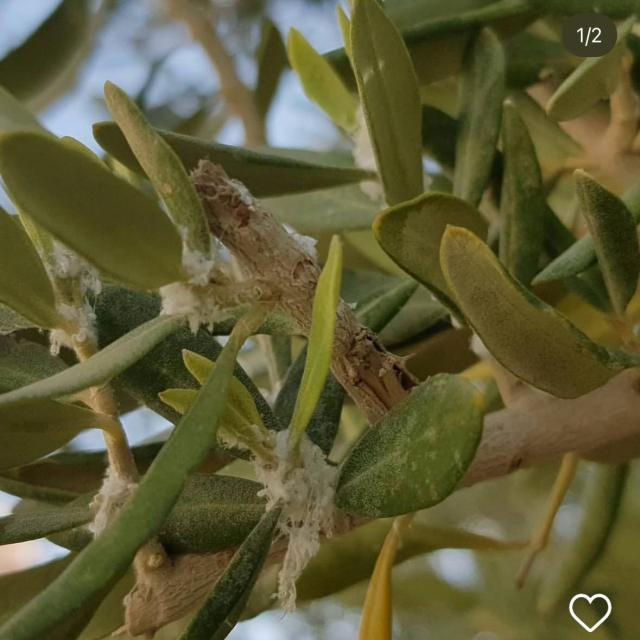Psyllid: (256, 427, 354, 611), (33, 231, 102, 361), (160, 235, 249, 333), (88, 451, 139, 538)
